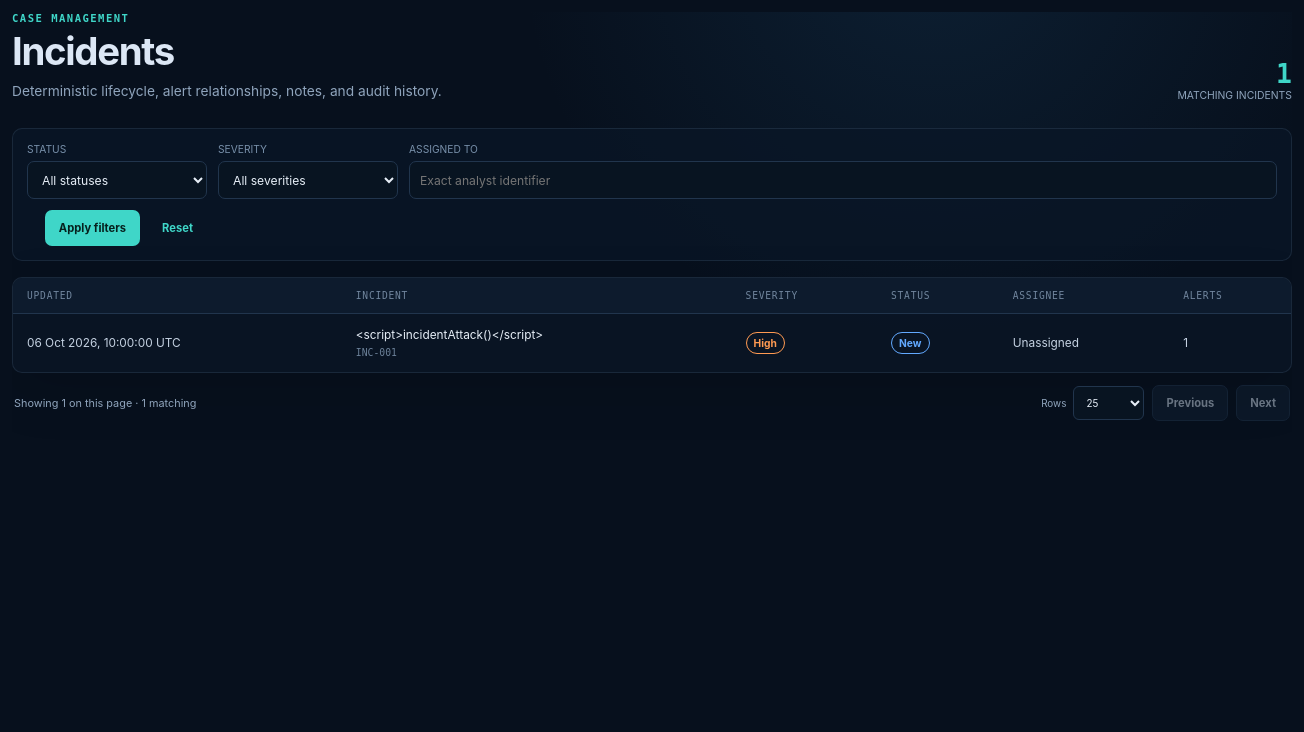
it: IncidentsPage › hides every mutation control for viewers
The width and height of the screenshot is (1304, 732).
Click the button "<script>incidentAttack()</script>" at (450, 336), box [356,328,543,342]
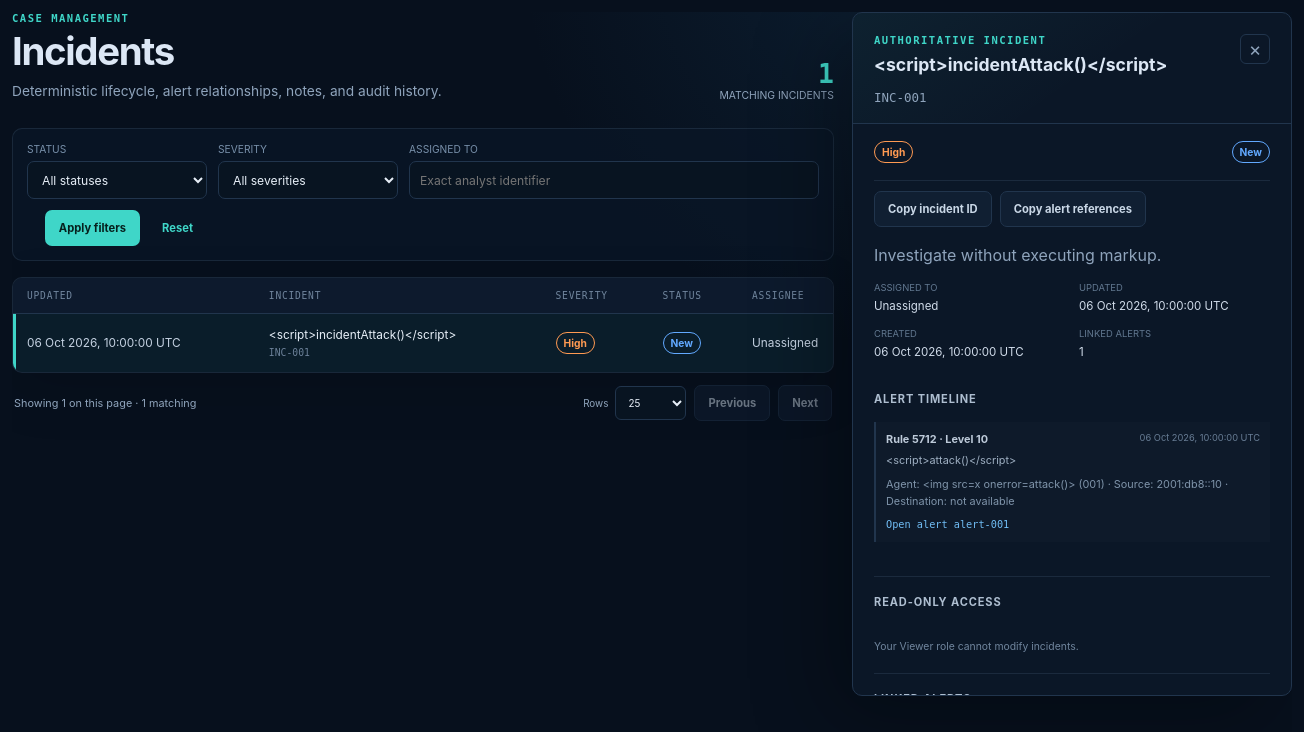
Check: the text "Your Viewer role cannot modify incidents." is shown, box [874,640,1079,653]
